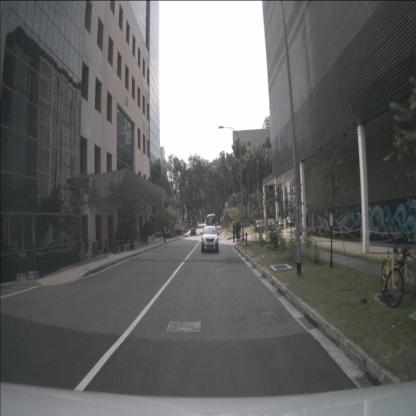human-pedestrian-adult: (238, 221, 242, 241), (103, 240, 108, 255), (286, 214, 291, 229), (305, 212, 308, 236), (162, 226, 166, 242), (232, 222, 235, 243), (235, 223, 238, 242), (163, 225, 166, 242), (279, 214, 282, 230), (130, 241, 135, 249), (120, 244, 125, 252), (146, 228, 148, 244), (182, 226, 185, 236), (228, 220, 230, 231), (182, 226, 184, 235)
movable_object-trafficcone: (338, 226, 343, 239), (332, 227, 336, 239), (324, 226, 328, 238), (318, 226, 322, 236), (313, 227, 316, 236)
vehicle-bicycle: (380, 229, 404, 309), (392, 232, 415, 303)
vehicle-bus-rigid: (206, 212, 217, 232)
vehicle-car: (201, 224, 219, 254), (3, 242, 20, 260), (254, 218, 264, 233), (286, 216, 296, 229), (265, 218, 276, 229), (40, 240, 50, 251), (49, 238, 58, 249), (277, 218, 284, 230), (190, 227, 197, 237)
